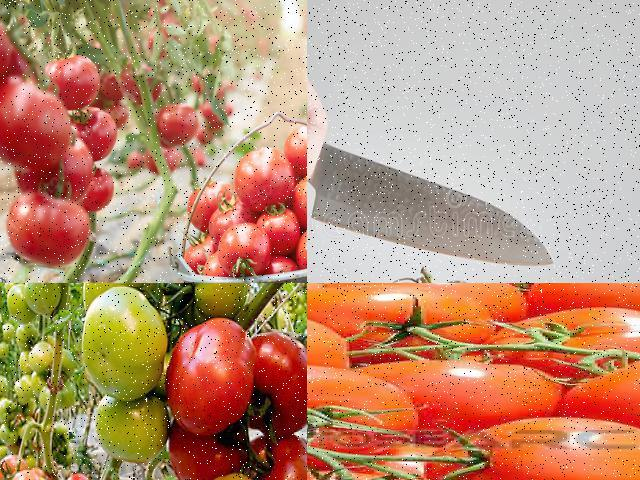tomato: (352, 352, 562, 430), (307, 285, 504, 358), (432, 413, 639, 479), (307, 363, 438, 465), (172, 314, 252, 438), (495, 309, 639, 376), (1, 79, 72, 176), (7, 191, 94, 268), (249, 328, 306, 440), (578, 348, 639, 443), (511, 283, 639, 327), (206, 226, 277, 278), (178, 176, 243, 232), (172, 424, 234, 478), (46, 51, 104, 104), (240, 156, 290, 204), (70, 112, 117, 158), (252, 439, 306, 479), (158, 100, 200, 142), (83, 172, 116, 220), (280, 126, 306, 178), (144, 146, 183, 173), (212, 210, 248, 234), (290, 176, 306, 227)
